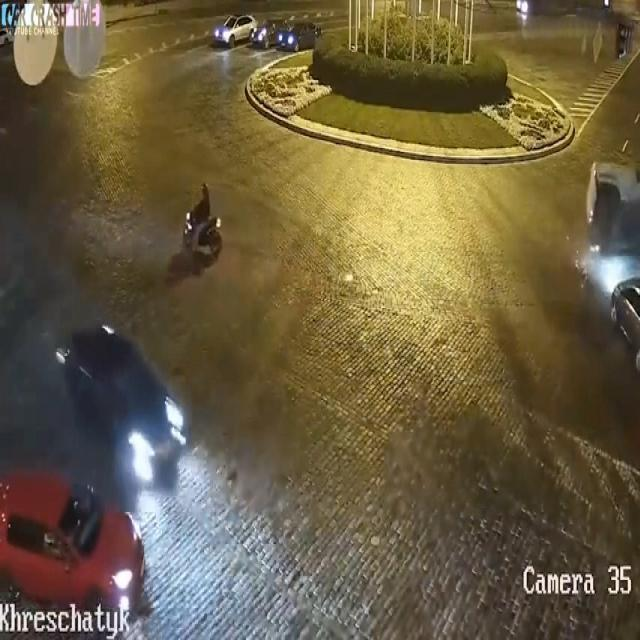Accident: (581, 146, 640, 356)
